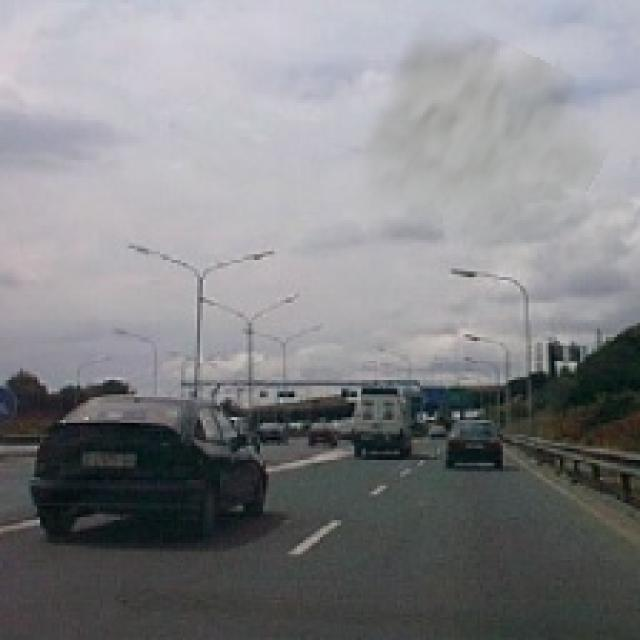smoke: (352, 8, 614, 272)
